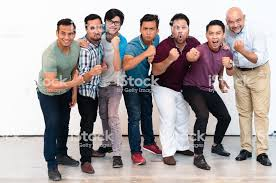person: (221, 6, 271, 89), (35, 14, 85, 96), (161, 7, 200, 85), (127, 11, 162, 90), (196, 18, 229, 98), (80, 9, 106, 74)
